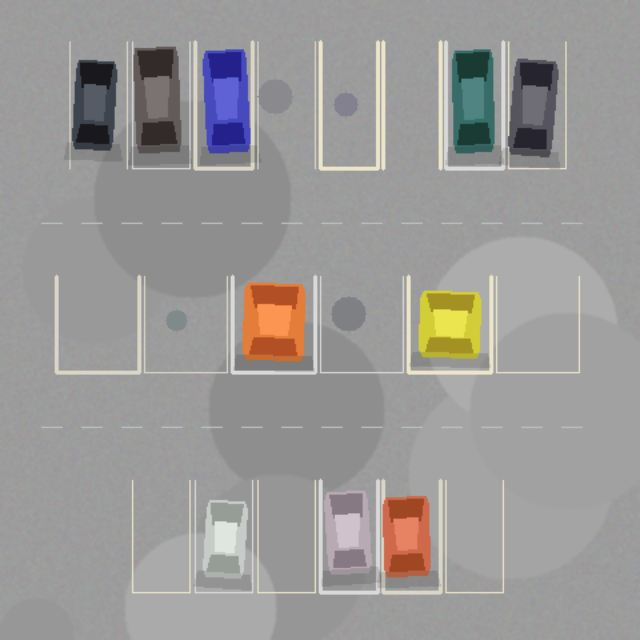space-empty: (56, 276, 139, 372), (144, 276, 227, 372), (320, 276, 403, 372), (496, 276, 579, 372), (257, 41, 315, 168), (320, 41, 377, 168), (383, 41, 440, 168), (257, 480, 315, 592), (445, 480, 503, 592), (132, 480, 189, 592)
space-occupied: (232, 276, 315, 372), (408, 276, 491, 372), (69, 41, 127, 168), (445, 41, 503, 168), (132, 41, 189, 168), (195, 41, 252, 168), (508, 41, 565, 168), (195, 480, 252, 592), (320, 480, 377, 592), (383, 480, 440, 592)
